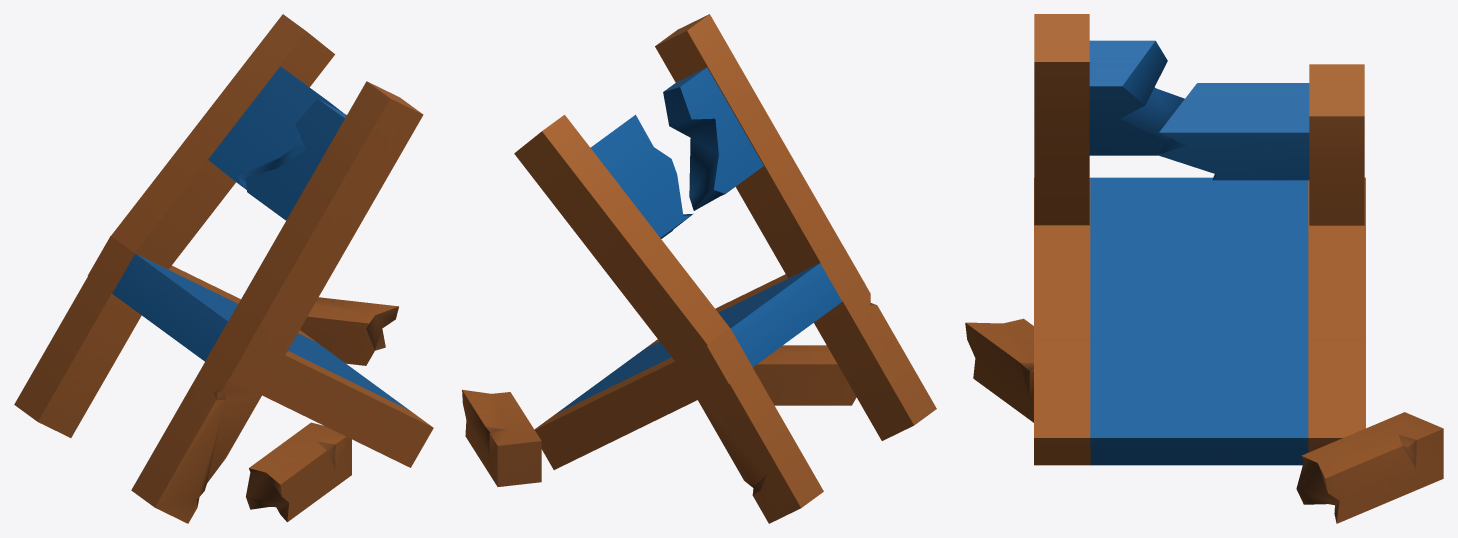
File: ChairBroken.FBX
The picture shows the model from 3 angles, left to right: view 1: azimuth 30°, elevation 25°; view 2: azimuth 150°, elevation 25°; view 3: azimuth 270°, elevation 25°; orthographic projection. The views are drawn at different scales.
Visible parts, largest first — view 1: ChairBroken; view 2: ChairBroken; view 3: ChairBroken.
Boxes of the visible parts, x1,y1,x2,y2 form: ChairBroken: (14,14,433,523); ChairBroken: (462,14,936,523); ChairBroken: (965,14,1443,523).
Size of the model in its own units: 0.9025 by 0.8811 by 0.8654.
